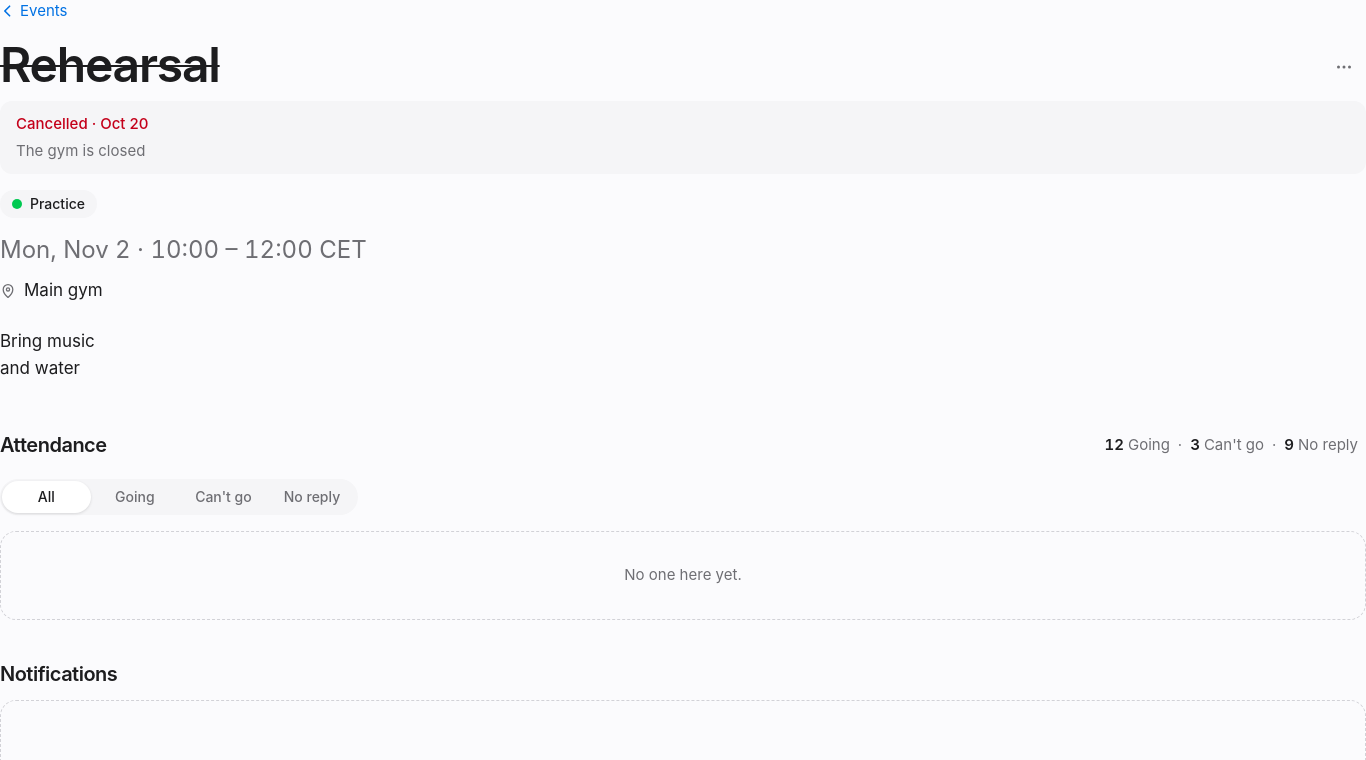
Test: EventDetailView › explains that a cancelled event that was notified cannot be deleted, with no way to cancel again
This screenshot has width=1366, height=760.
Click the button named "More actions" at x=1344, y=67, box [1322,45,1365,89]
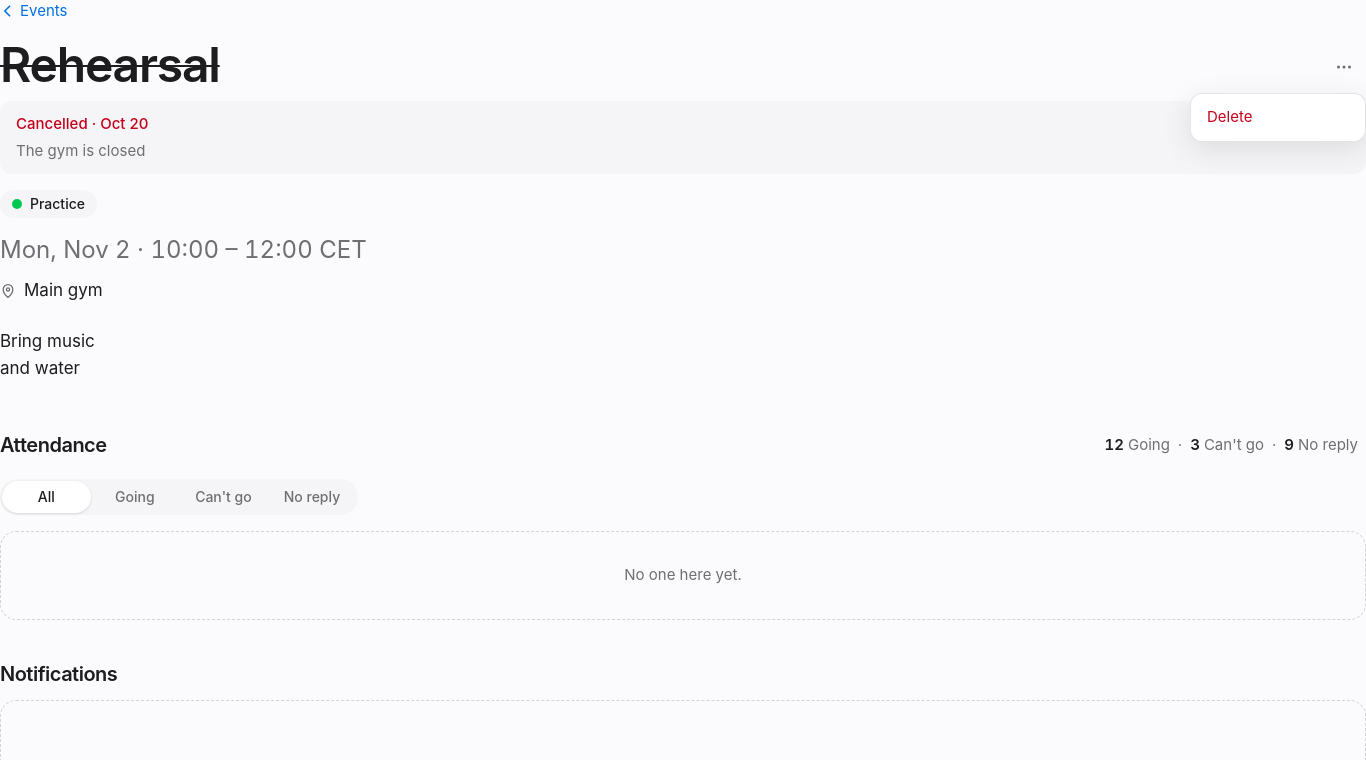
Click the menu item "Delete" at x=1278, y=118, box [1195,98,1361,137]
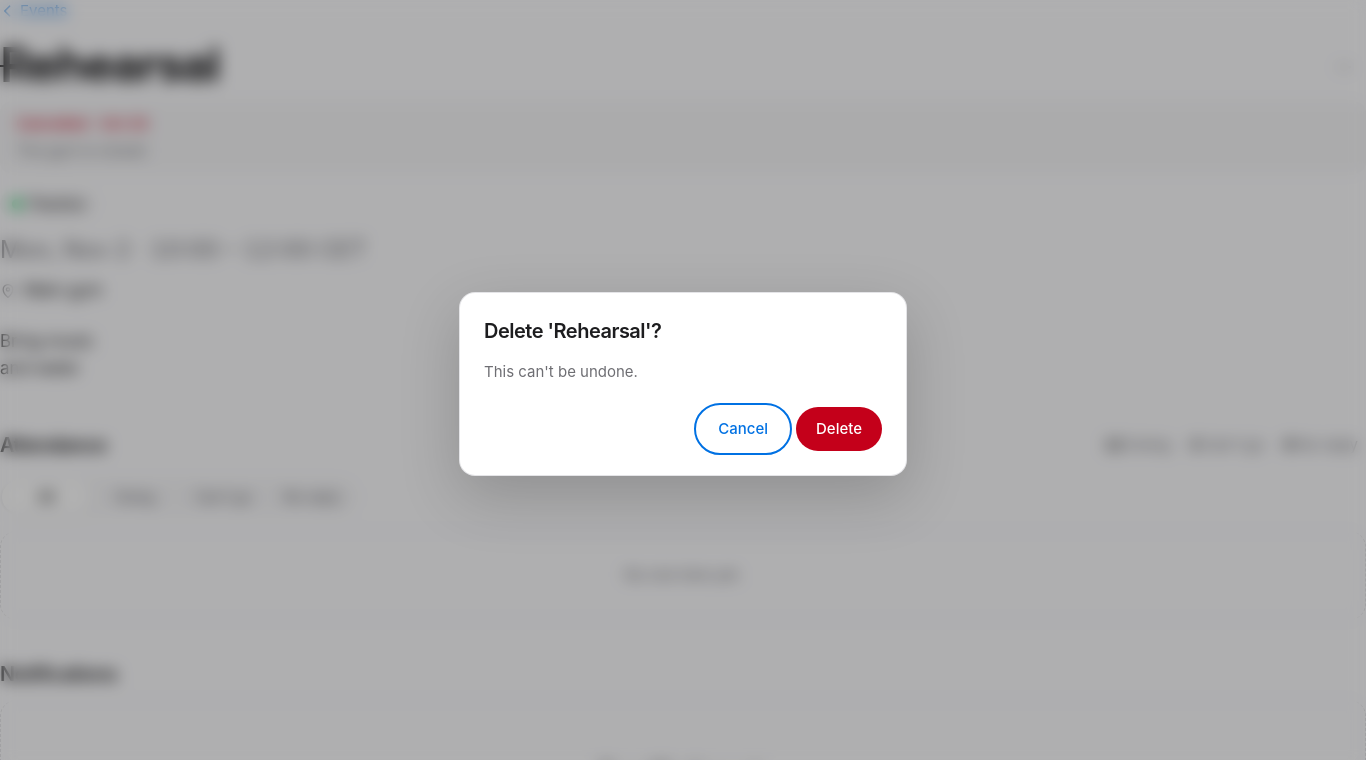
Click the button "Delete" at x=839, y=429, box [796,407,882,451]
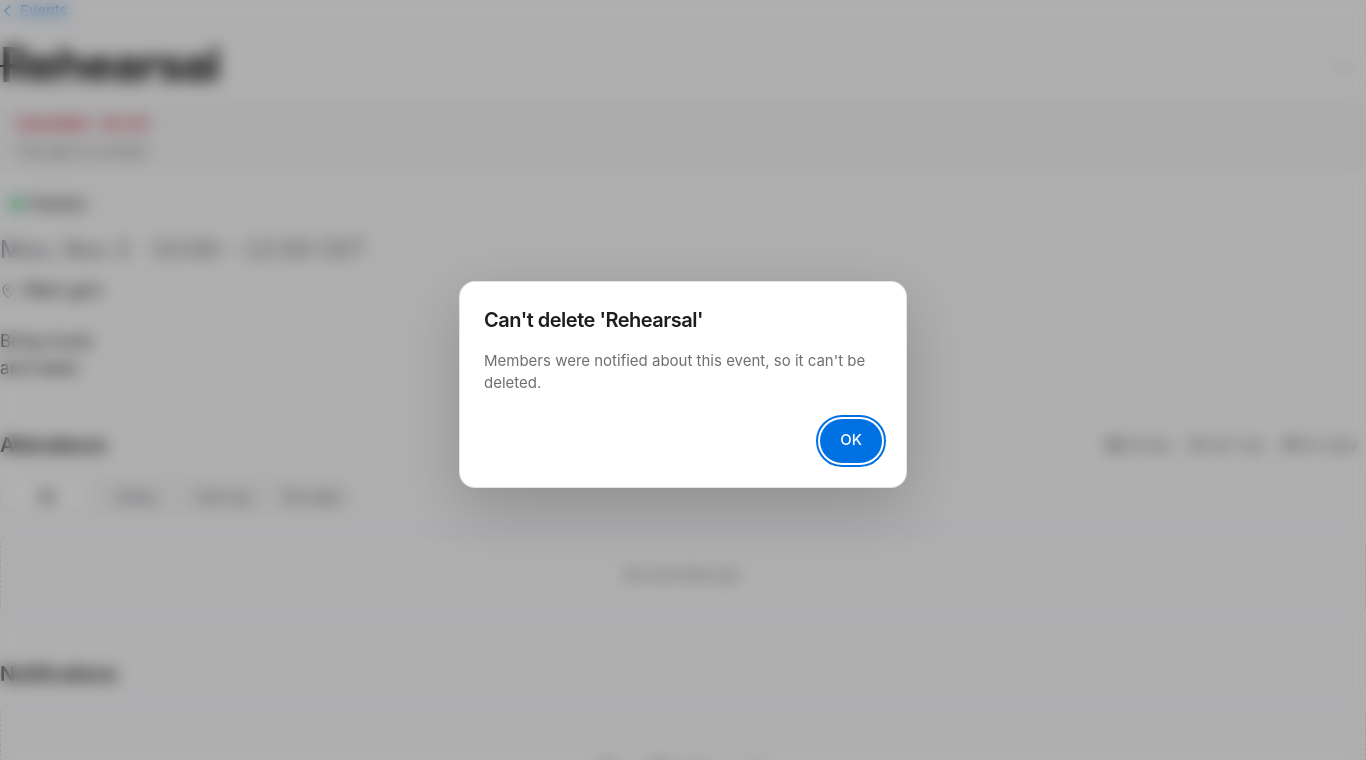
Expected: the dialog shows "Members were notified about this event, so it can't be deleted.", [484,350,865,392]
Expected: the buttons read "OK", in this order, [820,418,882,462]
